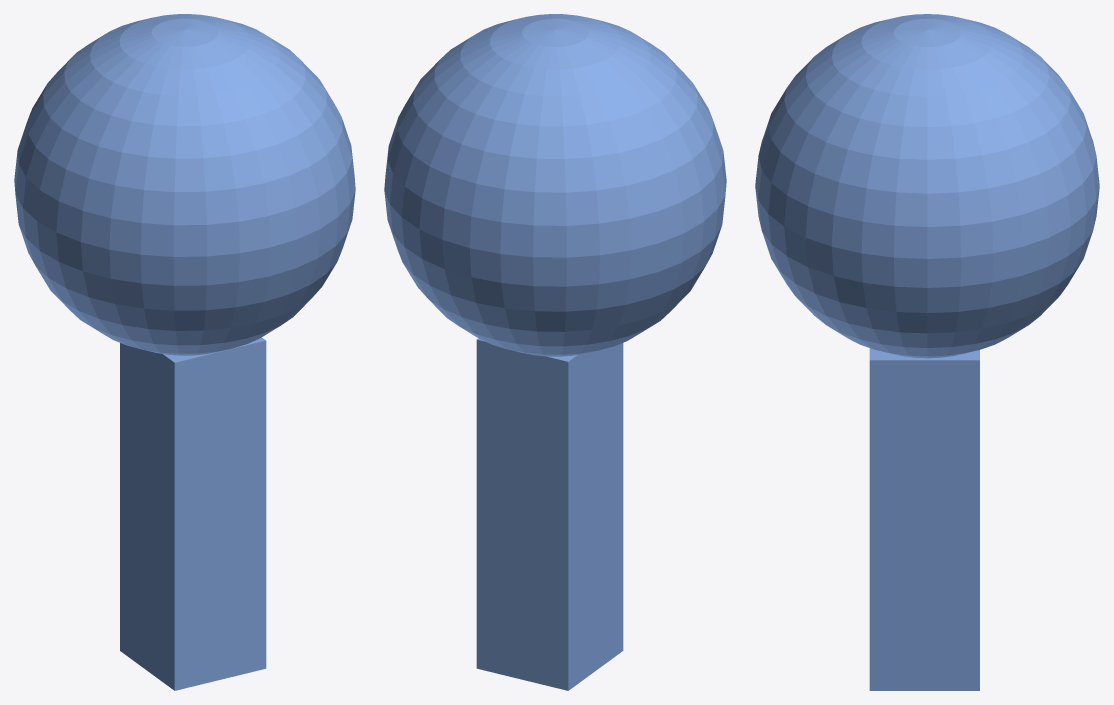
3 views of the same model, side by side, from view 1: azimuth 30°, elevation 25°; view 2: azimuth 150°, elevation 25°; view 3: azimuth 270°, elevation 25° (orthographic).
Parts seen in each view (by area): view 1: Cube; view 2: Cube; view 3: Cube.
Boxes of the visible parts, x1=… form: Cube: x1=14, y1=14, x2=355, y2=690; Cube: x1=384, y1=14, x2=726, y2=690; Cube: x1=755, y1=14, x2=1099, y2=690.
Bounding box in the file's own units: 2 × 4.07 × 2.
